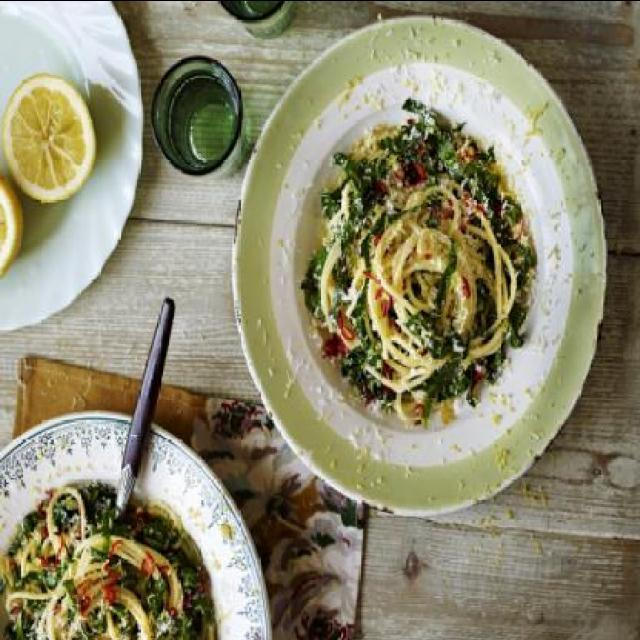Oil pasta: (246, 37, 517, 435)
